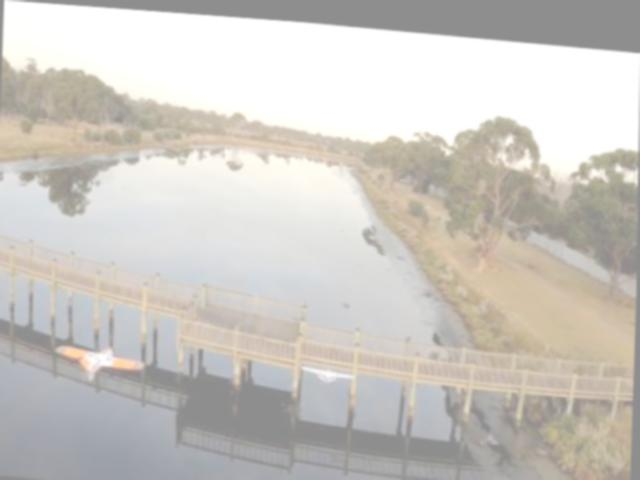uav: (52, 335, 149, 384), (299, 353, 359, 384)
